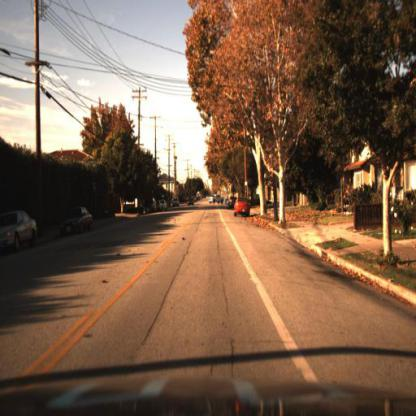car: (1, 209, 39, 254), (55, 200, 99, 238), (63, 208, 94, 234), (234, 196, 252, 221), (233, 198, 254, 219), (143, 195, 158, 215), (228, 194, 236, 215), (186, 195, 196, 211), (171, 198, 181, 210), (211, 194, 223, 204), (162, 197, 170, 211), (157, 198, 163, 213)
